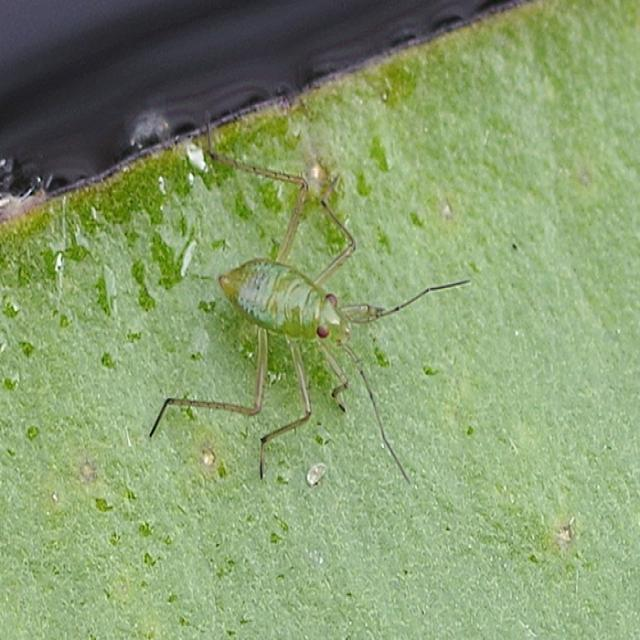Aphid-Grown-: (206, 216, 364, 380)
